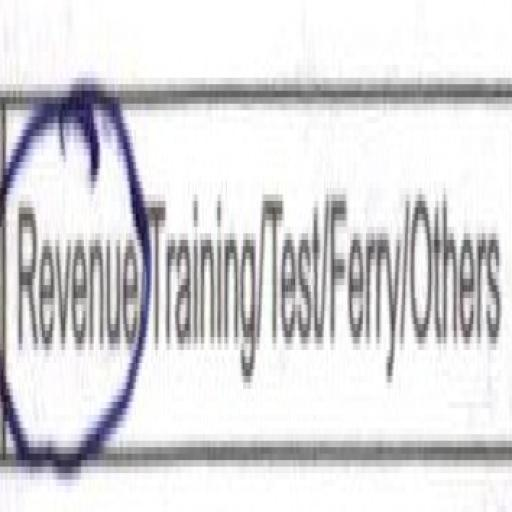check: (2, 61, 146, 511)
